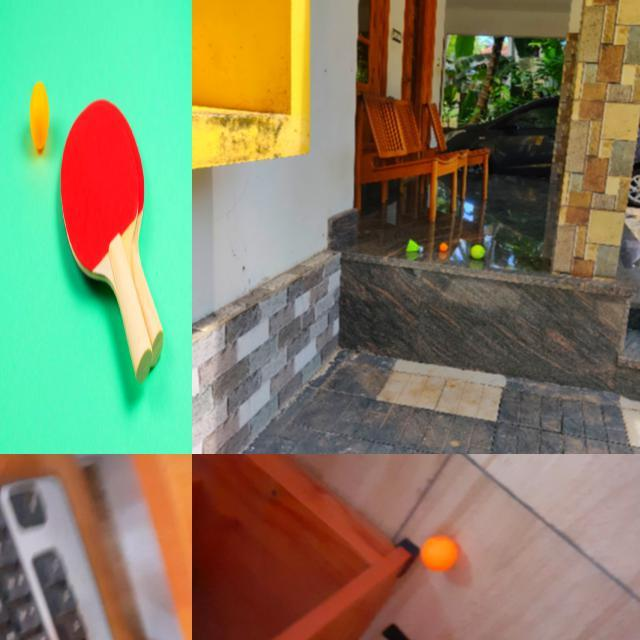ping-pong-ball: (421, 535, 457, 571), (30, 82, 48, 150), (439, 243, 447, 251)
